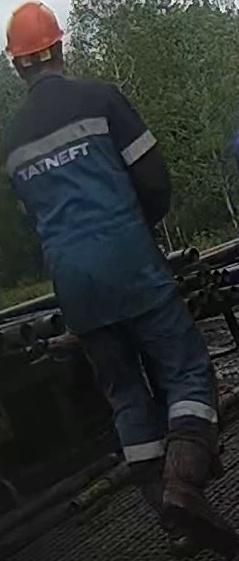helmet: (4, 0, 64, 58)
vest: (2, 74, 176, 334)
